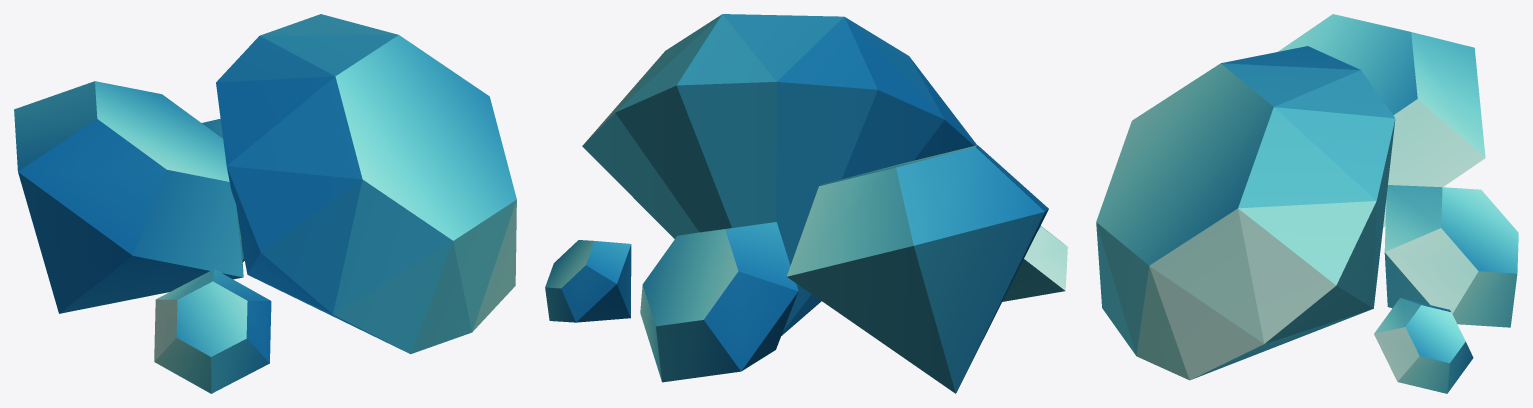
The model's file is Diamond_05.glb.
3 renders of one model, left to right at view 1: azimuth 30°, elevation 25°; view 2: azimuth 150°, elevation 25°; view 3: azimuth 270°, elevation 25°, orthographic. The views are drawn at different scales.
Visible parts, largest first — view 1: Diamond_05; view 2: Diamond_05; view 3: Diamond_05.
Part boxes in pixels (x1,y1,x2,y2): Diamond_05: (14,14,516,393); Diamond_05: (545,14,1067,393); Diamond_05: (1096,14,1518,393).
Bounding box in the file's own units: 0.7597 × 0.4107 × 0.6227.
Materials: 1 (1 with a texture image).
